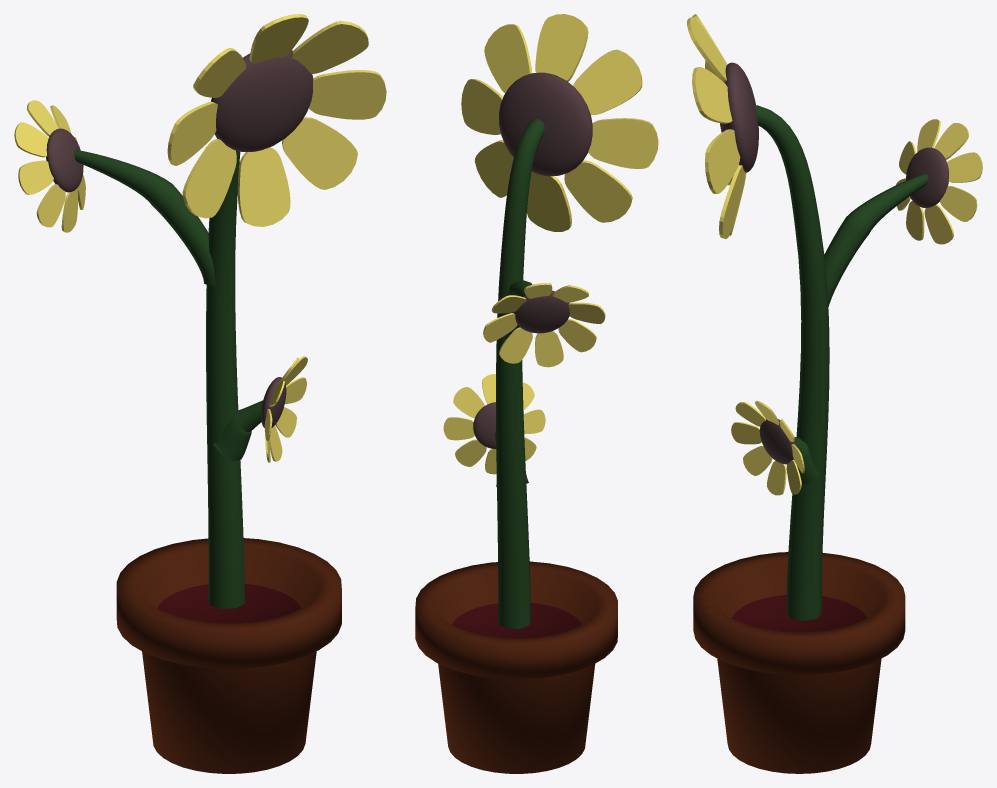
Rendered from Plant.fbx.
The picture shows the model from 3 angles, left to right: view 1: azimuth 30°, elevation 25°; view 2: azimuth 150°, elevation 25°; view 3: azimuth 270°, elevation 25°; orthographic projection. The views are drawn at different scales.
Parts seen in each view (by area): view 1: Circle, Cube, BézierCurve, Sphere, Cube.001, Cube.002, Sphere.001, Sphere.002; view 2: Circle, Cube, BézierCurve, Sphere, Cube.001, Cube.002, Sphere.001, Sphere.002; view 3: Circle, BézierCurve, Cube, Cube.001, Cube.002, Sphere, Sphere.001, Sphere.002.
Part boxes in pixels (x1,y1,x2,y2): Circle: [116, 538, 341, 773]; Cube: [167, 14, 386, 226]; BézierCurve: [74, 138, 262, 608]; Sphere: [211, 50, 313, 151]; Cube.001: [14, 100, 85, 232]; Cube.002: [264, 356, 307, 462]; Sphere.001: [46, 128, 83, 192]; Sphere.002: [261, 377, 286, 427]; Circle: [415, 561, 617, 773]; Cube: [461, 14, 658, 231]; BézierCurve: [495, 118, 545, 628]; Sphere: [499, 72, 592, 176]; Cube.001: [483, 283, 605, 367]; Cube.002: [443, 374, 545, 474]; Sphere.001: [513, 290, 569, 333]; Sphere.002: [473, 402, 496, 448]; Circle: [693, 552, 905, 773]; BézierCurve: [755, 105, 928, 620]; Cube: [687, 14, 746, 238]; Cube.001: [896, 119, 982, 244]; Cube.002: [731, 401, 804, 495]; Sphere: [720, 62, 758, 172]; Sphere.001: [906, 147, 948, 207]; Sphere.002: [759, 419, 795, 464].
Bounding box in the file's own units: 2.24 × 2.16 × 6.03.
